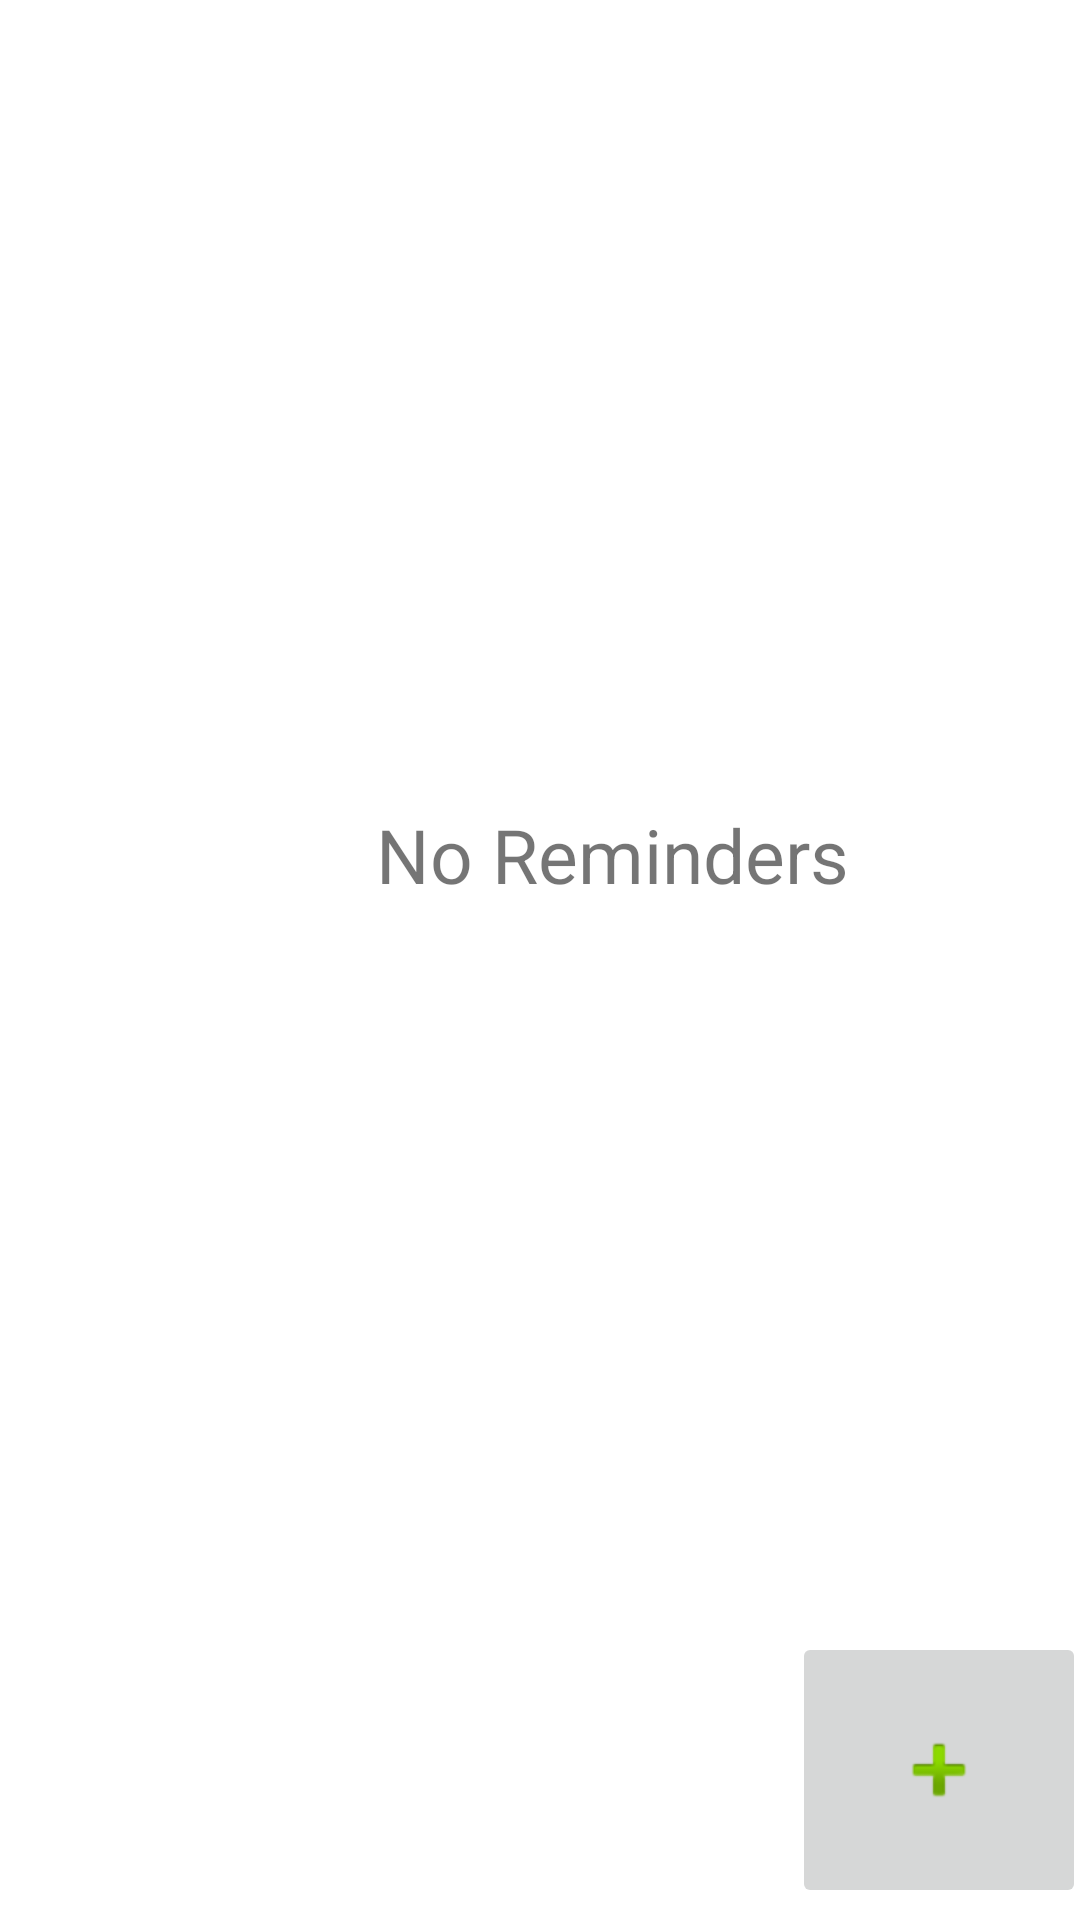

Icons on this 1080 × 1920 Android screen, each with its box as BBox(x1, y1, x2, y2):
add: BBox(804, 1650, 1074, 1890)
